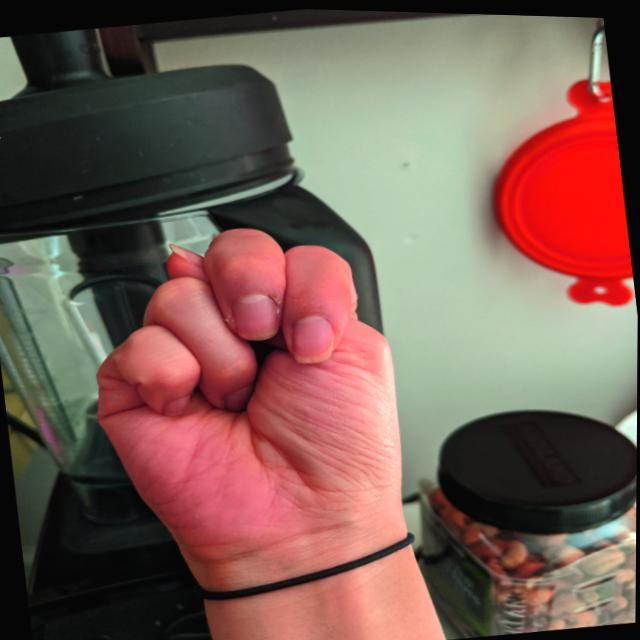N: (70, 202, 423, 586)
